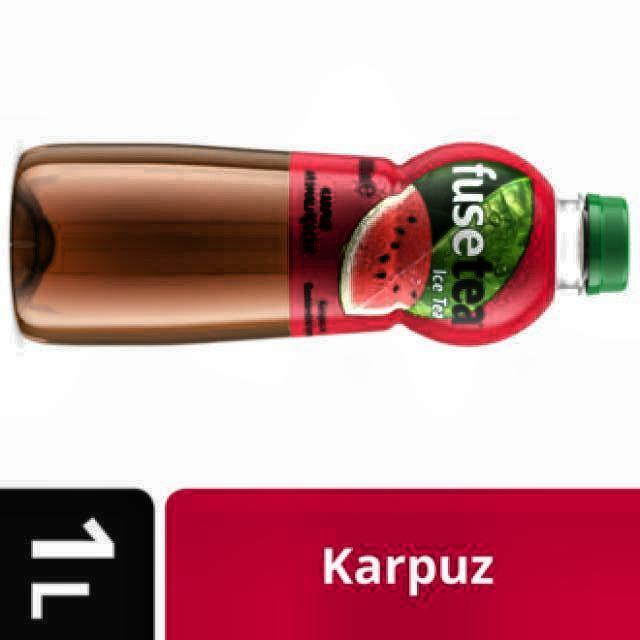plastic: (11, 142, 629, 344)
